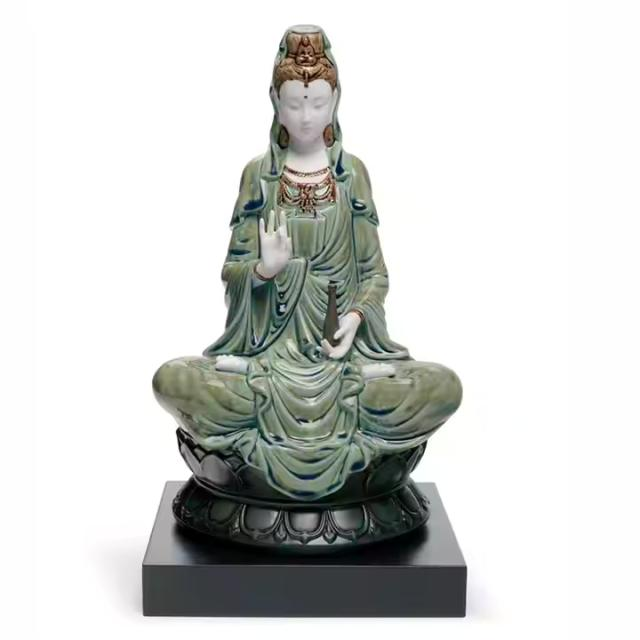Guan Yin: (214, 20, 406, 372)
